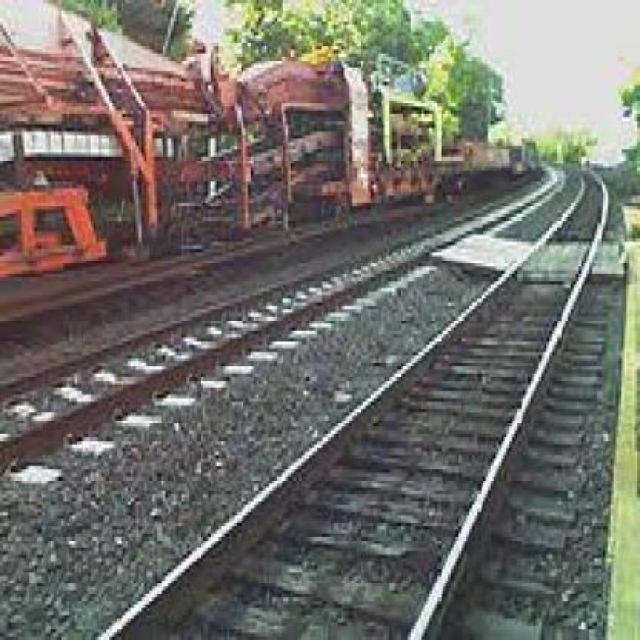rail: (85, 148, 617, 640), (0, 157, 564, 500)
